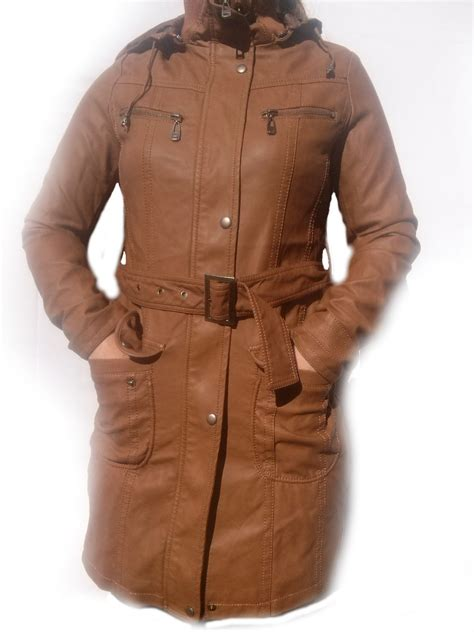cuero: (24, 1, 422, 619)
